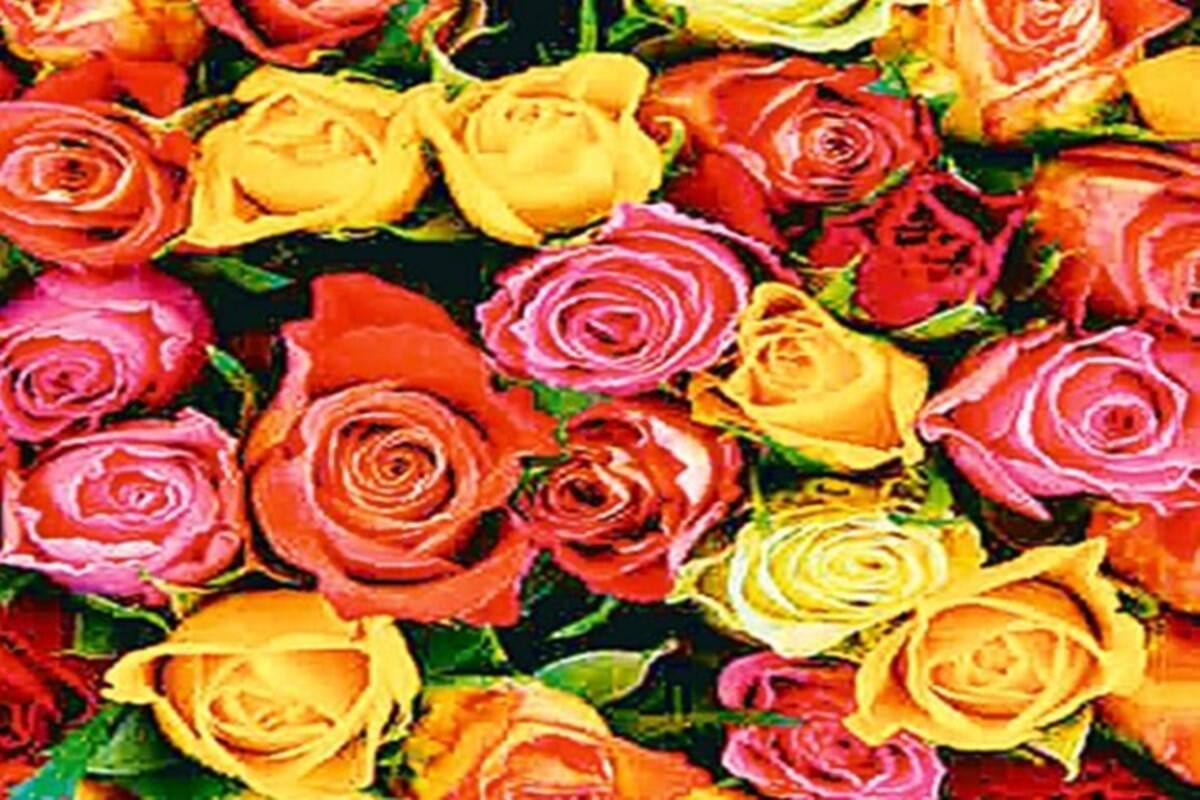rose: (748, 483, 1137, 800), (264, 324, 507, 602), (10, 440, 241, 612), (162, 601, 367, 775), (542, 408, 731, 579), (962, 331, 1191, 472), (507, 236, 713, 391), (241, 83, 420, 235), (740, 76, 905, 226), (9, 102, 155, 258), (19, 302, 185, 428), (468, 83, 624, 198), (874, 188, 1025, 299)
